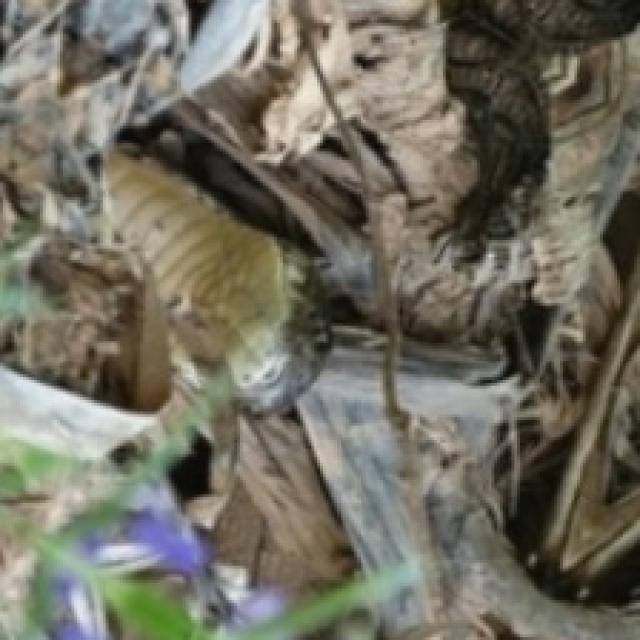king cobra: (102, 146, 330, 412)
